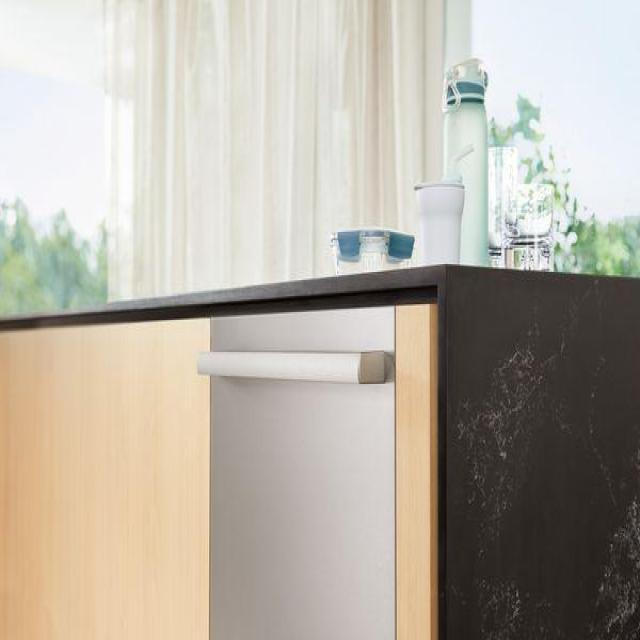dishwasher: (197, 305, 396, 640)
